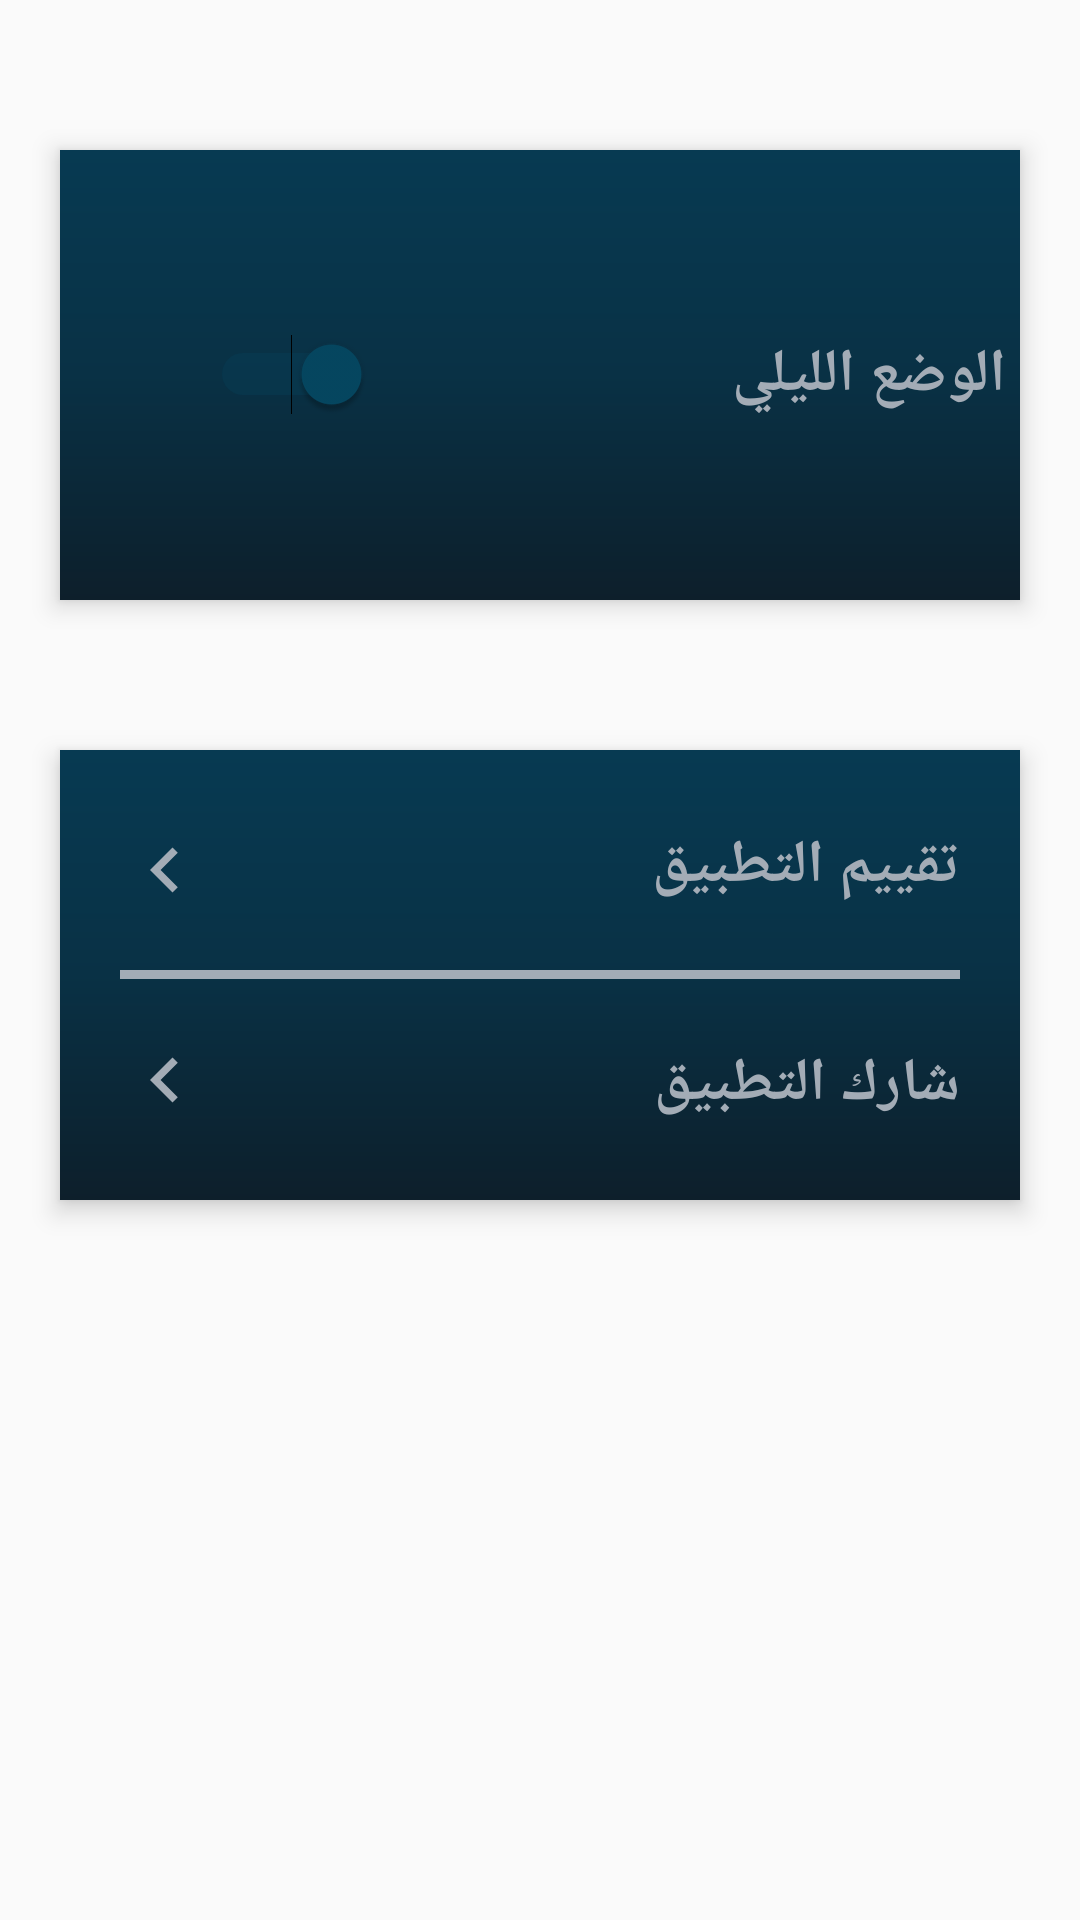

Icons on this 1080x1920 Android screen, each with the point to tap as (x=x, y=y):
chevron left: (x=164, y=870), (x=164, y=1080)
